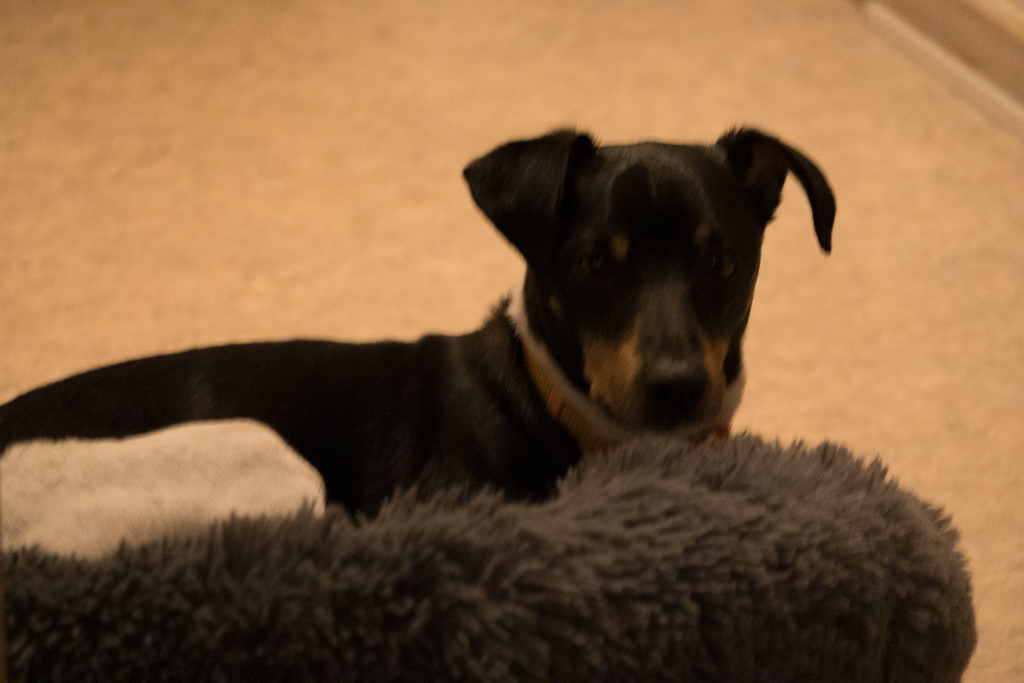Dog: (0, 123, 846, 571)
